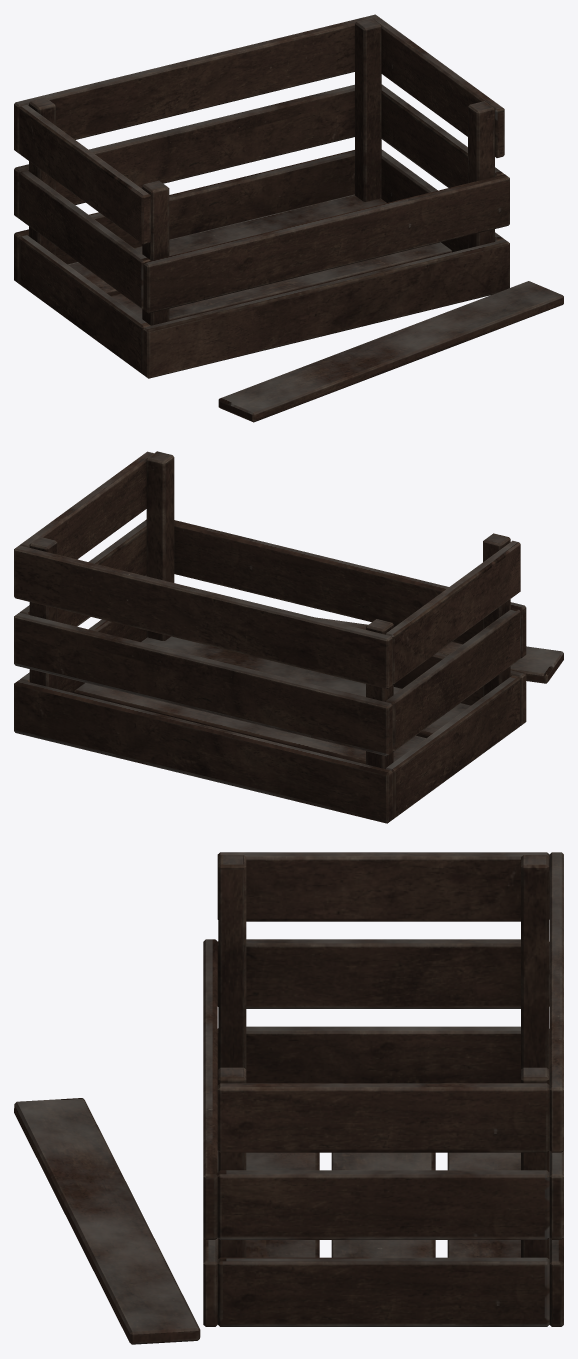
Rendered from Crate_Open.fbx.
3 views of the same model, one above another, from view 1: azimuth 30°, elevation 25°; view 2: azimuth 150°, elevation 25°; view 3: azimuth 270°, elevation 25° (orthographic). The views are drawn at different scales.
Parts seen in each view (by area): view 1: Crate_Open_Mesh; view 2: Crate_Open_Mesh; view 3: Crate_Open_Mesh.
Boxes of the visible parts, bbox=[...] form: Crate_Open_Mesh: bbox=[14, 14, 563, 422]; Crate_Open_Mesh: bbox=[14, 451, 563, 823]; Crate_Open_Mesh: bbox=[14, 852, 563, 1344].
Size of the model in its own units: 0.7511 by 0.34 by 0.6863.
